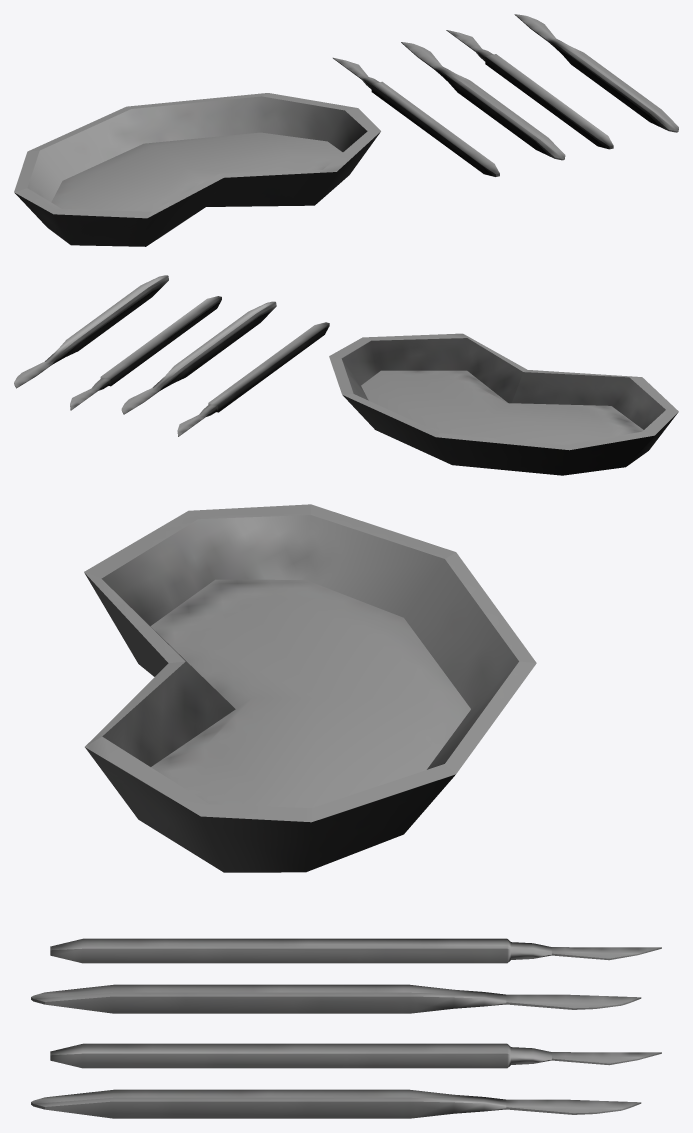
Rendered from Tx_props_medical_tools.fbx.
The picture shows the model from 3 angles, top to bottom: view 1: azimuth 30°, elevation 25°; view 2: azimuth 150°, elevation 25°; view 3: azimuth 270°, elevation 25°; orthographic projection. The views are drawn at different scales.
Visible parts, largest first — view 1: Tx_props_medical_tools; view 2: Tx_props_medical_tools; view 3: Tx_props_medical_tools.
Boxes of the visible parts, x1,y1,x2,y2 form: Tx_props_medical_tools: [14, 14, 678, 246]; Tx_props_medical_tools: [14, 275, 678, 475]; Tx_props_medical_tools: [31, 504, 661, 1118].
Bounding box in the file's own units: 2.13 × 0.1464 × 1.03.
